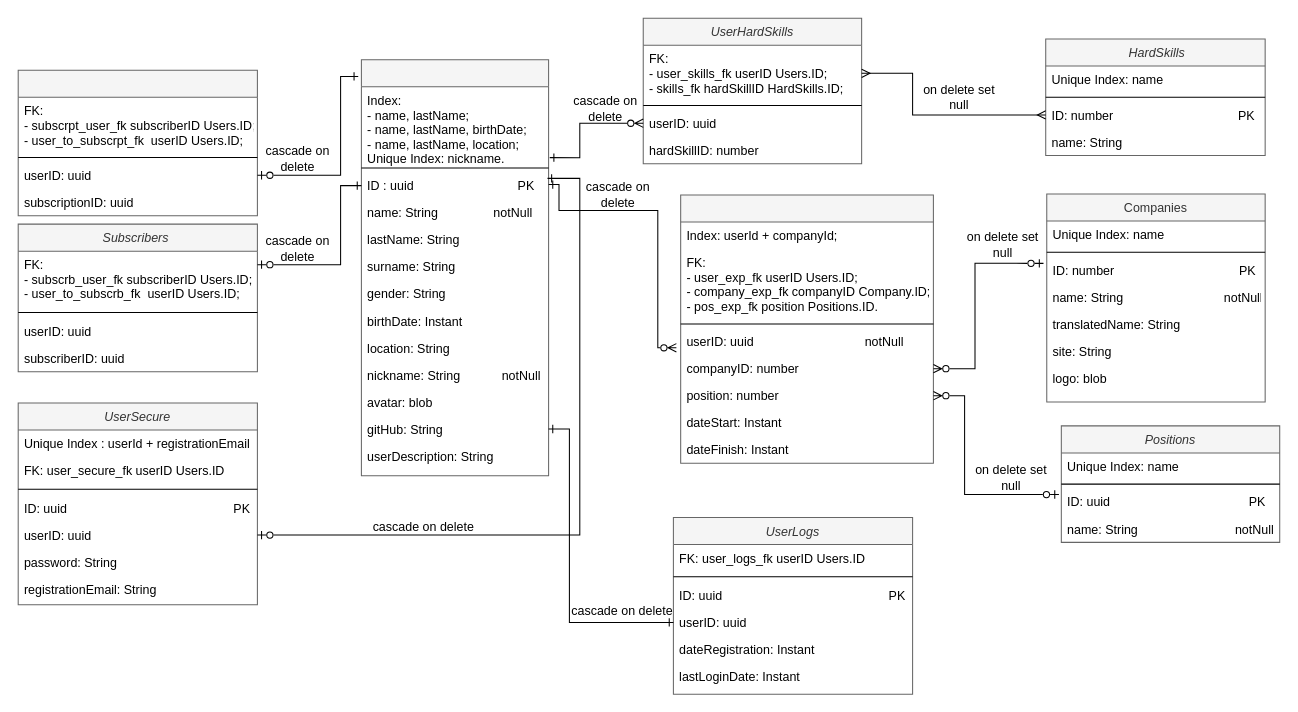
This 1298x712 diagram has some shape labels left out. The box of each missing label's shape, as (x1, y1, x2, y2) in pixels:
Subscriptions: (17, 69, 257, 216)
Users: (360, 59, 549, 476)
WorkExperience: (680, 194, 933, 463)
